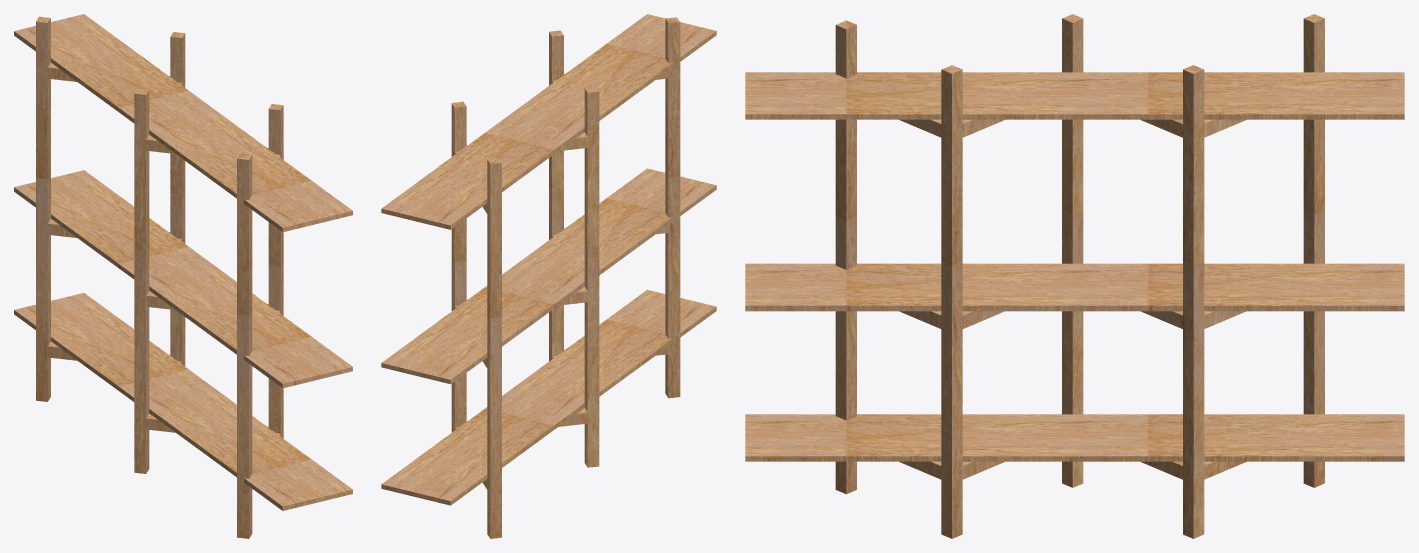
File: bookcase3d-1.glb
3 views of the same model, side by side, from view 1: azimuth 30°, elevation 25°; view 2: azimuth 150°, elevation 25°; view 3: azimuth 270°, elevation 25° (orthographic). The views are drawn at different scales.
Visible parts, largest first — view 1: skp4B7F; view 2: skp4B7F; view 3: skp4B7F.
Part boxes in pixels (x1,y1,x2,y2): skp4B7F: (14, 14, 352, 538); skp4B7F: (381, 14, 716, 538); skp4B7F: (745, 14, 1404, 538).
Bounding box in the file's own units: 0.4707 × 1.7 × 2.19.
Materials: 1 (1 with a texture image).
